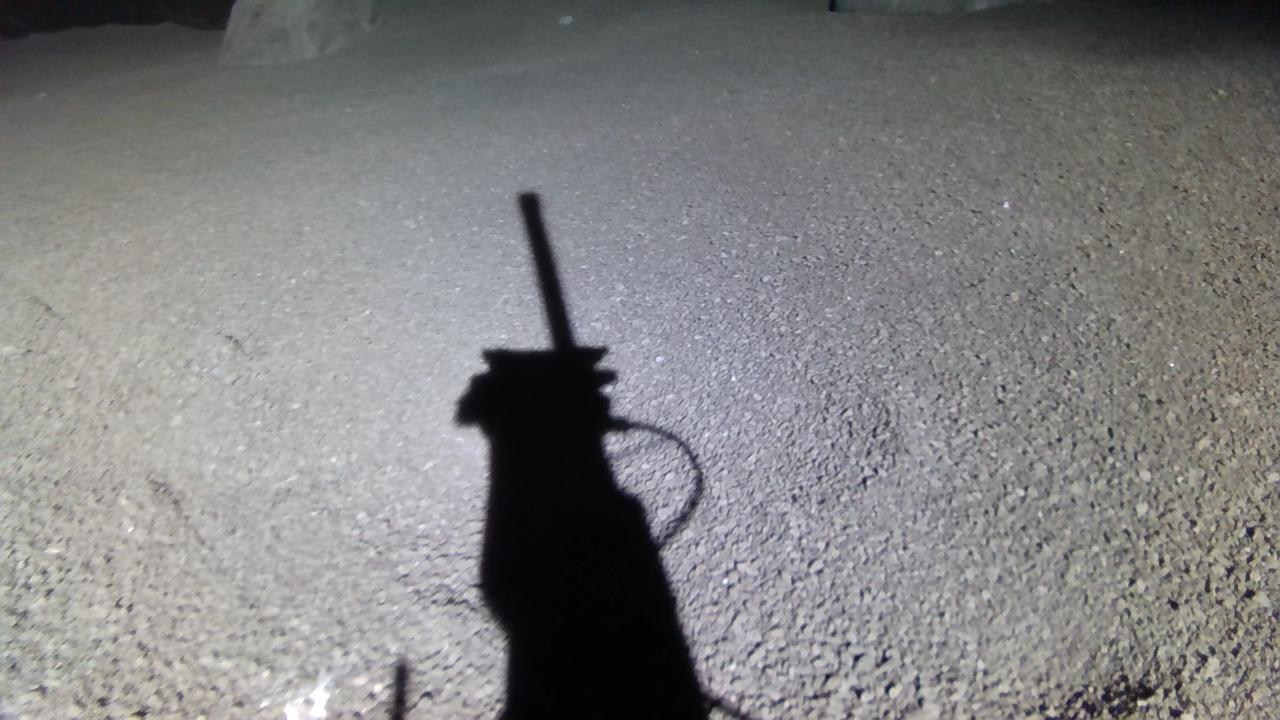rock: (220, 0, 377, 63)
